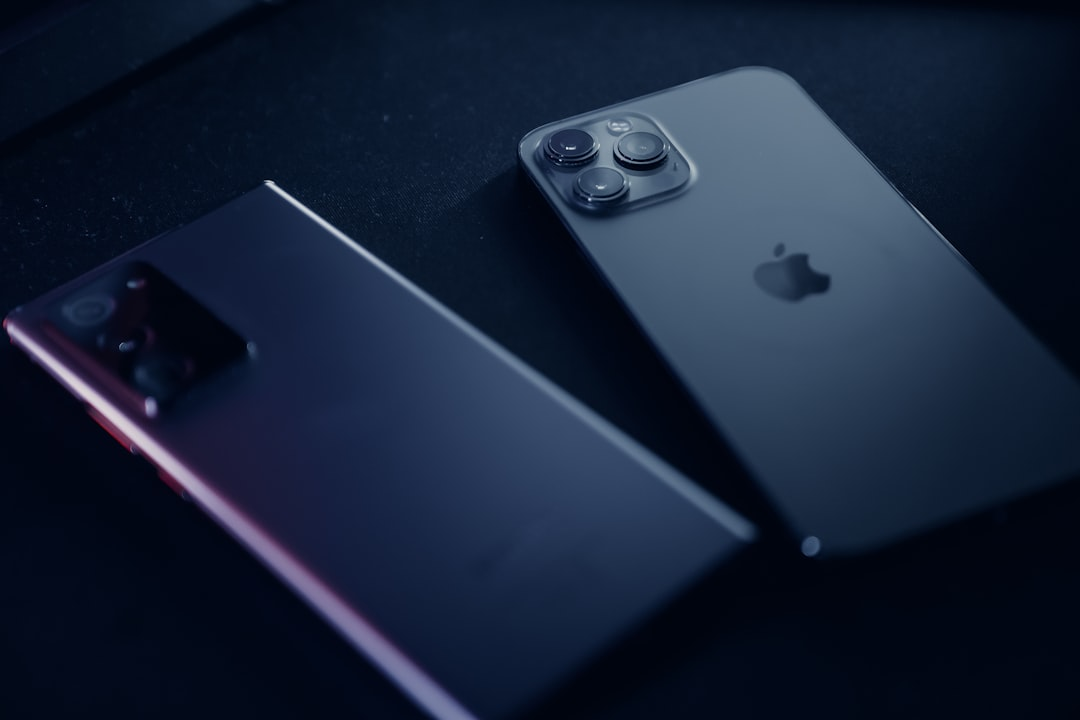phone: (4, 180, 762, 718), (517, 60, 1080, 561)
